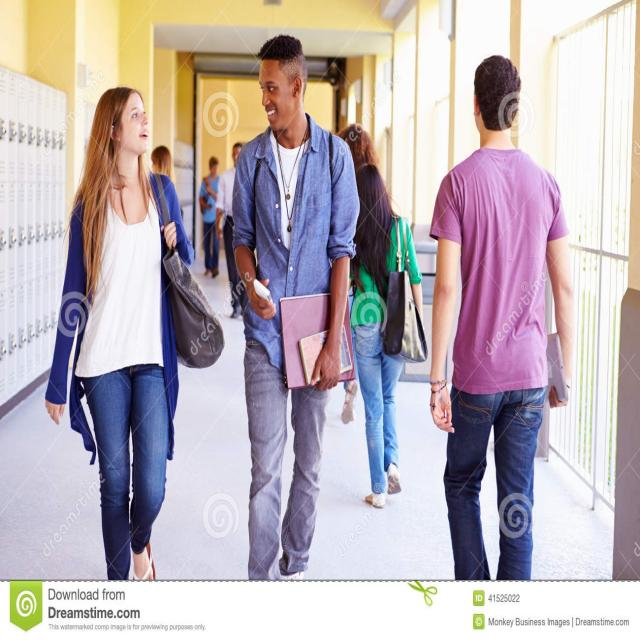body: (44, 85, 225, 580), (230, 31, 364, 622), (429, 54, 574, 581), (346, 162, 428, 510), (334, 122, 378, 424), (215, 140, 244, 320), (198, 154, 220, 280), (150, 145, 174, 181)
